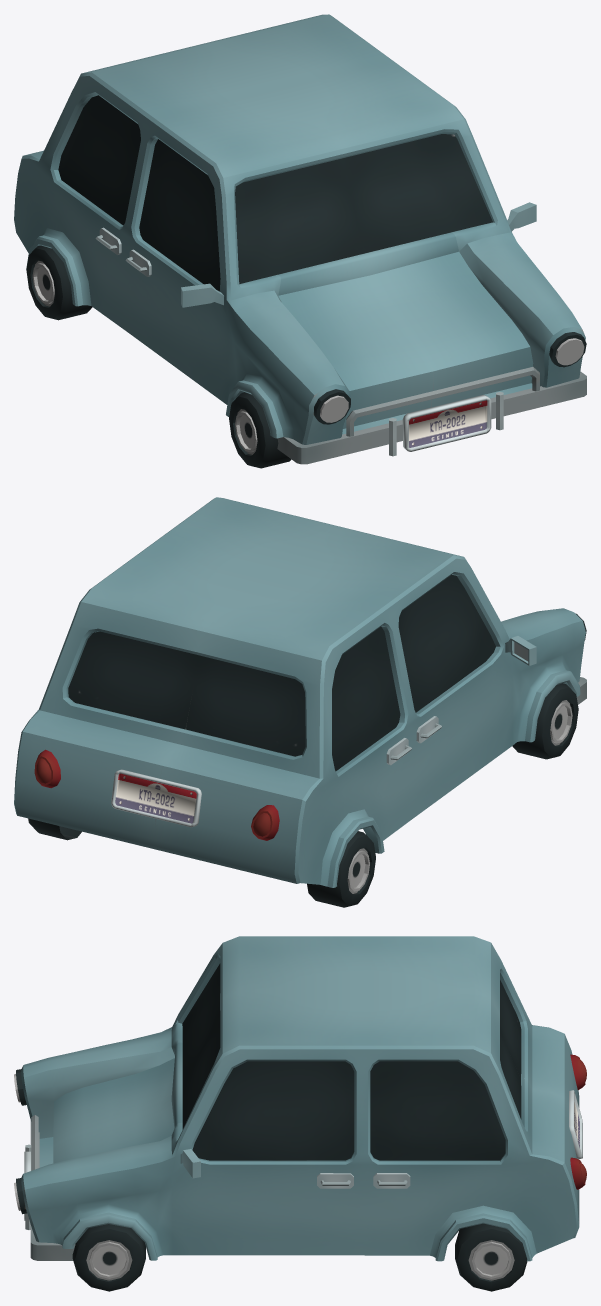
Rendered from Car.fbx.
3 views of the same model, one above another, from view 1: azimuth 30°, elevation 25°; view 2: azimuth 150°, elevation 25°; view 3: azimuth 270°, elevation 25° (orthographic). The views are drawn at different scales.
Parts seen in each view (by area): view 1: Car; view 2: Car; view 3: Car.
Boxes of the visible parts, x1,y1,x2,y2 form: Car: (14, 14, 586, 468); Car: (14, 497, 586, 907); Car: (14, 936, 586, 1291).
Bounding box in the file's own units: 193 × 127 × 286.
